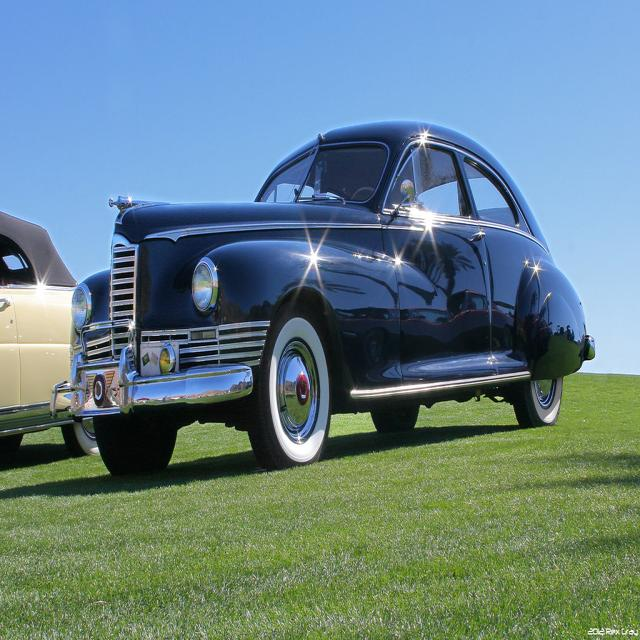car: (46, 115, 596, 477)
